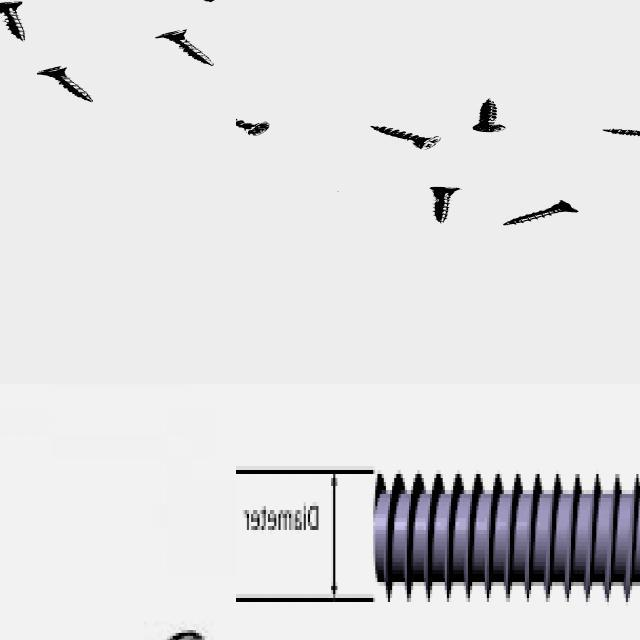Screw: (373, 466, 640, 607), (158, 30, 216, 66), (38, 67, 94, 102), (504, 200, 580, 225), (372, 126, 442, 149), (473, 98, 507, 132), (0, 1, 27, 41), (431, 187, 461, 223), (236, 118, 270, 135), (604, 129, 640, 135)
